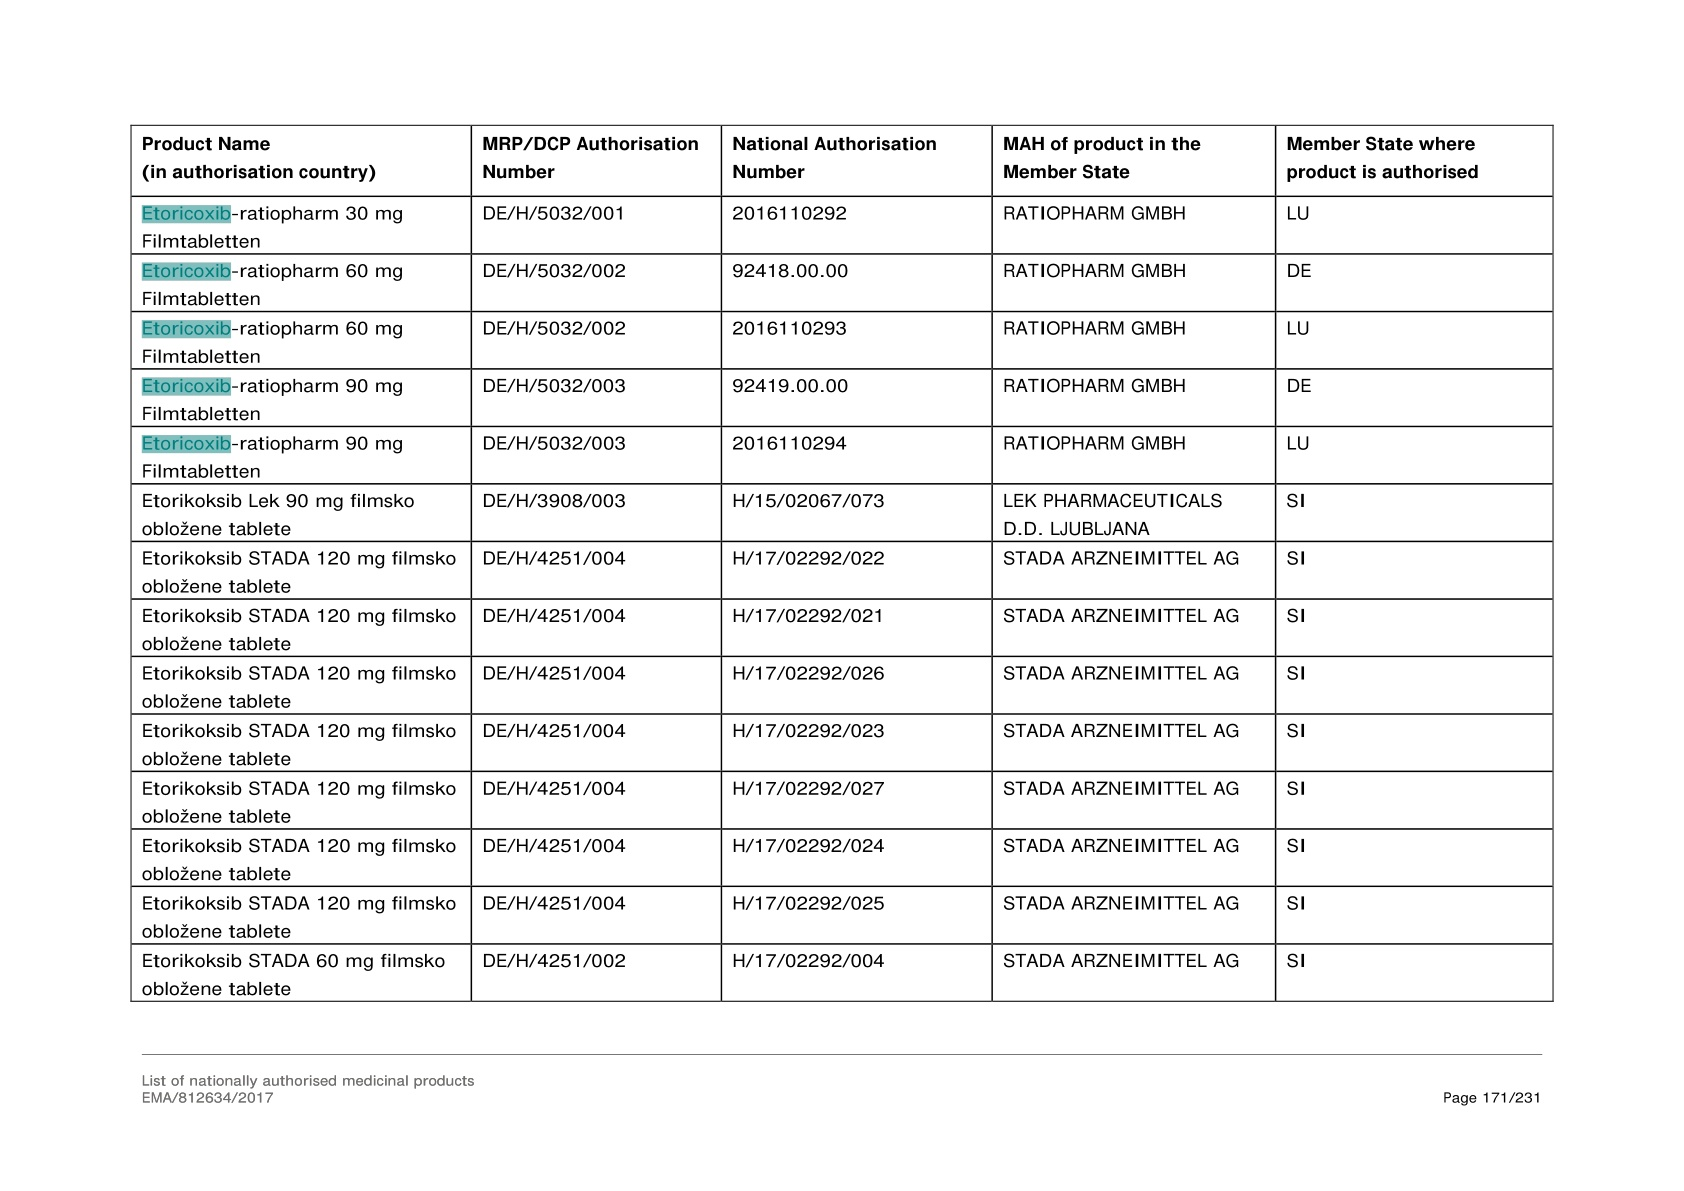full_lined: (129, 124, 1555, 1004)
